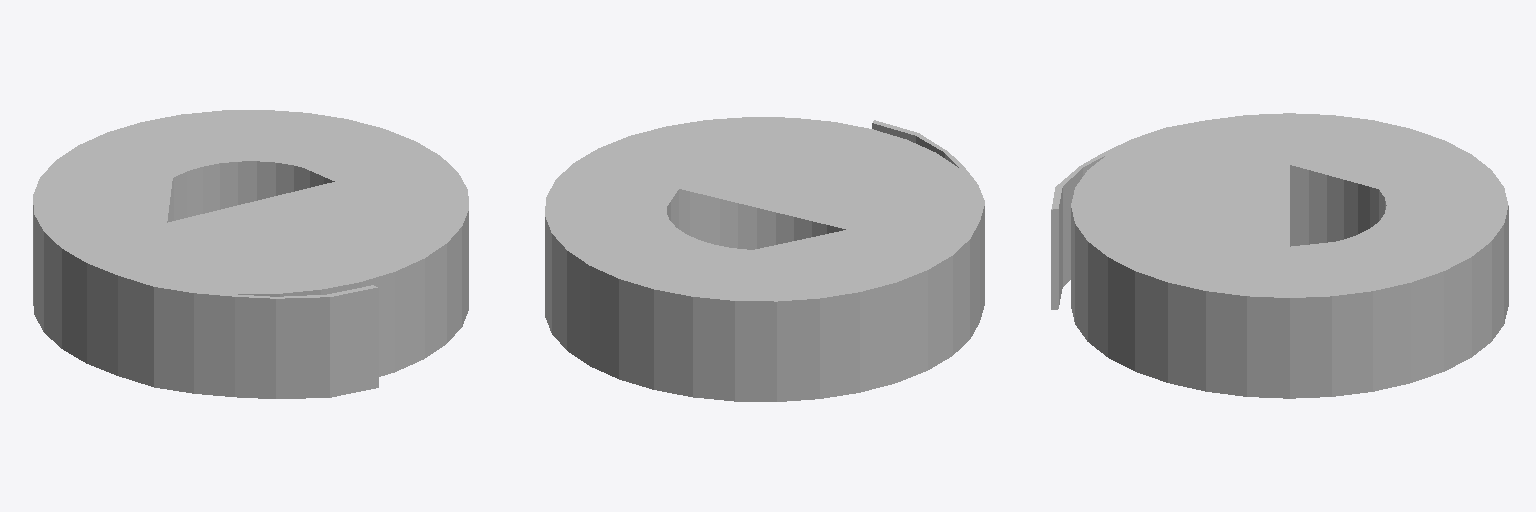
The model's file is outer_ring_gaffa.obj.
3 views of the same model, side by side, from view 1: azimuth 30°, elevation 25°; view 2: azimuth 150°, elevation 25°; view 3: azimuth 270°, elevation 25° (orthographic).
Visible parts, largest first — view 1: Cylinder; view 2: Cylinder; view 3: Cylinder.
Boxes of the visible parts, x1=… form: Cylinder: x1=33, y1=110, x2=468, y2=398; Cylinder: x1=545, y1=117, x2=984, y2=401; Cylinder: x1=1051, y1=113, x2=1508, y2=398.
Size of the model in its own units: 2 by 0.5073 by 2.09.